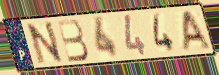4: (93, 13, 120, 62), (123, 13, 147, 58), (153, 12, 176, 53)
A: (180, 9, 212, 54)
B: (55, 18, 91, 64)
N: (25, 20, 66, 66)
